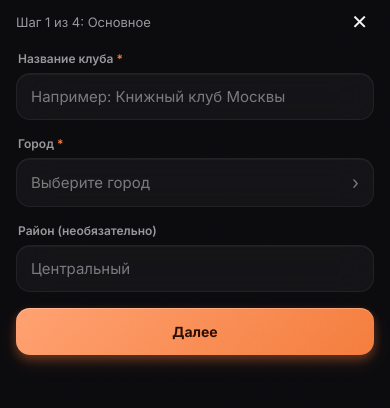
it: CreateClubModal › shows error "Укажите город" when city is empty but name is valid
Type "Valid Club Name" into the field labelled "Название клуба *" at {"x": 195, "y": 96}, box [16,73,374,120]
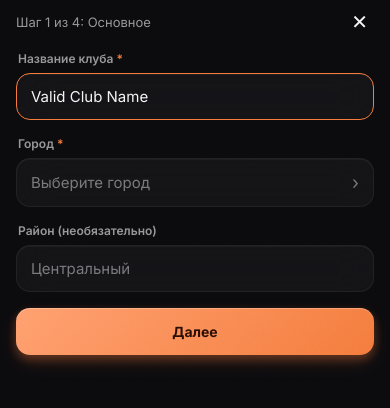
Click the button "Далее" at {"x": 195, "y": 332}, box [16,308,374,355]
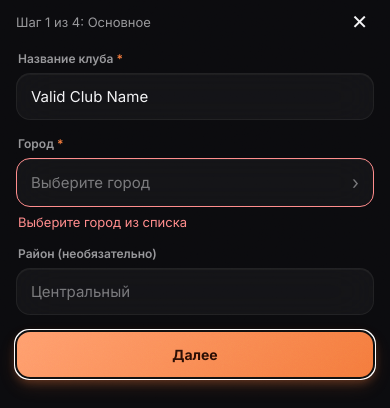
expect the text "Выберите город из списка" is shown: met, box [18,214,187,230]
